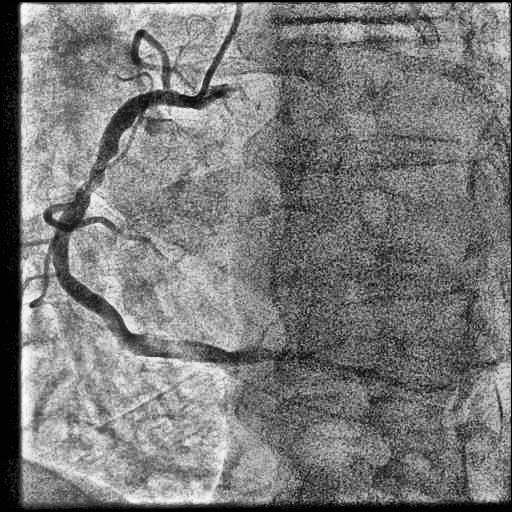rca: (51, 90, 306, 366)
